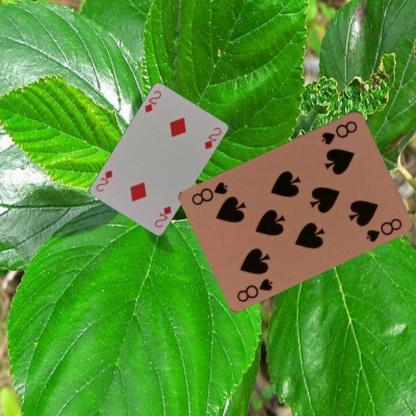2d: (142, 88, 162, 115), (152, 204, 173, 228)
8s: (234, 274, 274, 304), (319, 117, 359, 146)
